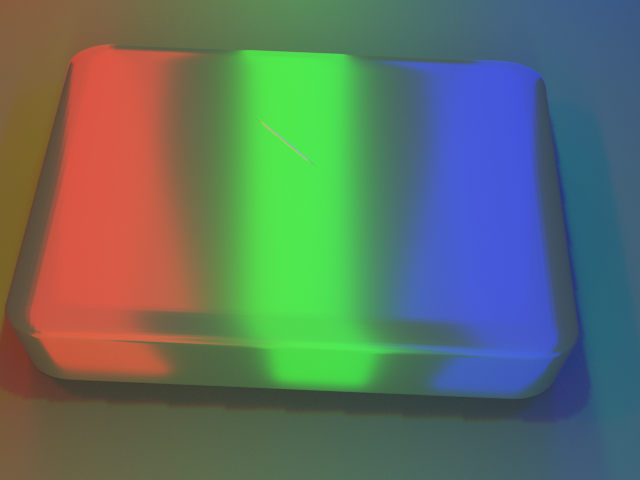scratch: (142, 58, 418, 209)
